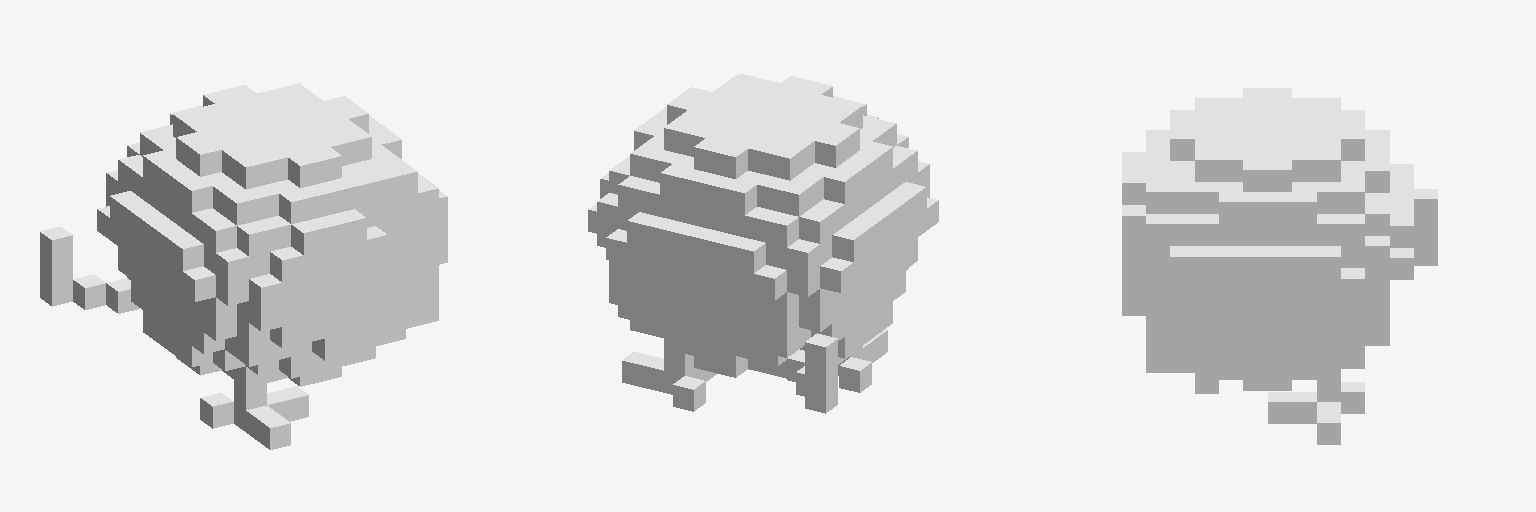
File: PookaWalk1Quarter.obj
The picture shows the model from 3 angles: view 1: azimuth 30°, elevation 25°; view 2: azimuth 150°, elevation 25°; view 3: azimuth 270°, elevation 25°; orthographic projection.
Visible parts, largest first — view 1: object 1; view 2: object 1; view 3: object 1.
Boxes of the visible parts, x1,y1,x2,y2 form: object 1: [40, 83, 447, 449]; object 1: [588, 74, 938, 413]; object 1: [1122, 88, 1437, 444].
Bounding box in the file's own units: 1.3 × 1.2 × 1.3.